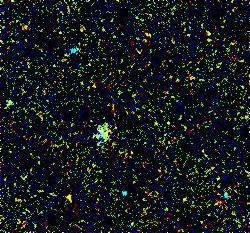star: (54, 187, 84, 217)
